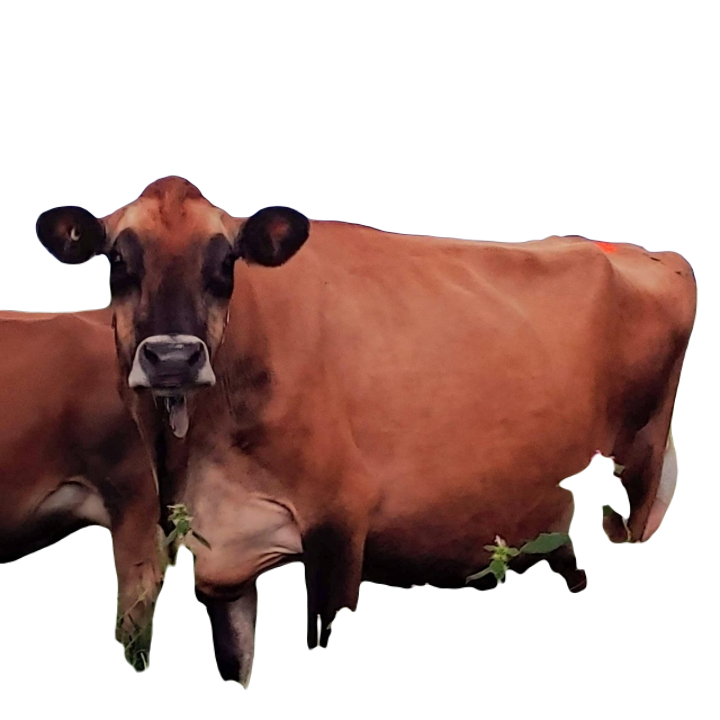Cow: (33, 174, 698, 690)
